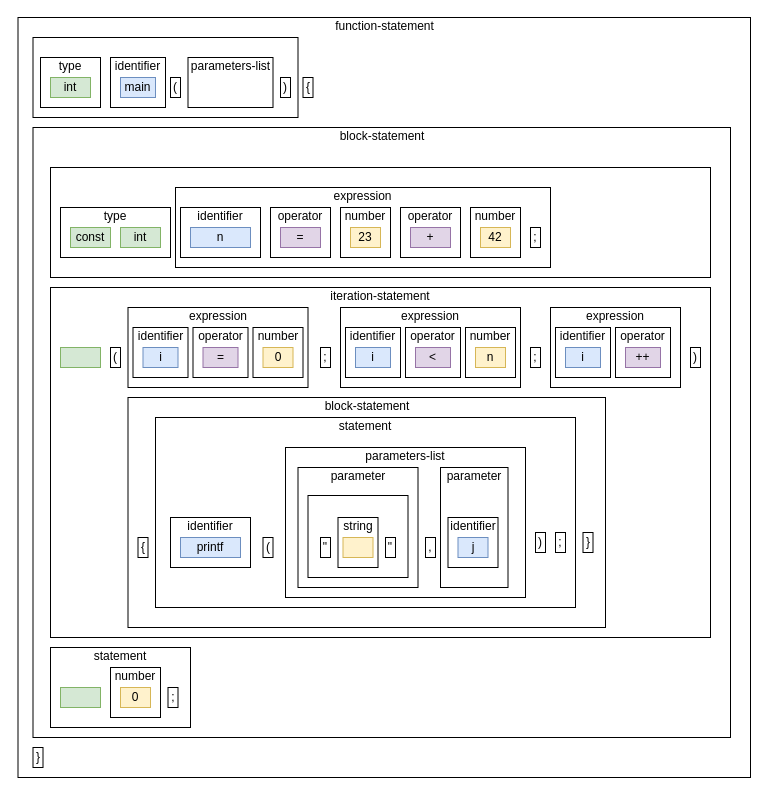
Image size: 768x795. Some labels were removed from this diagram. Each missing label, with the box of its shape:
%d: (342, 536, 373, 558)
declaration-statement: (50, 166, 710, 278)
for: (60, 346, 100, 368)
function-declaration: (32, 36, 298, 118)
return: (60, 686, 100, 708)
string-litteral: (307, 494, 408, 578)
